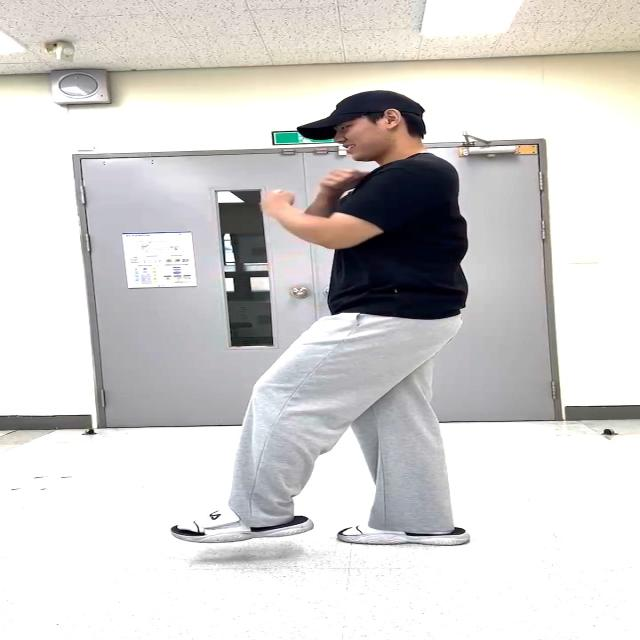leg: (191, 295, 371, 566)
